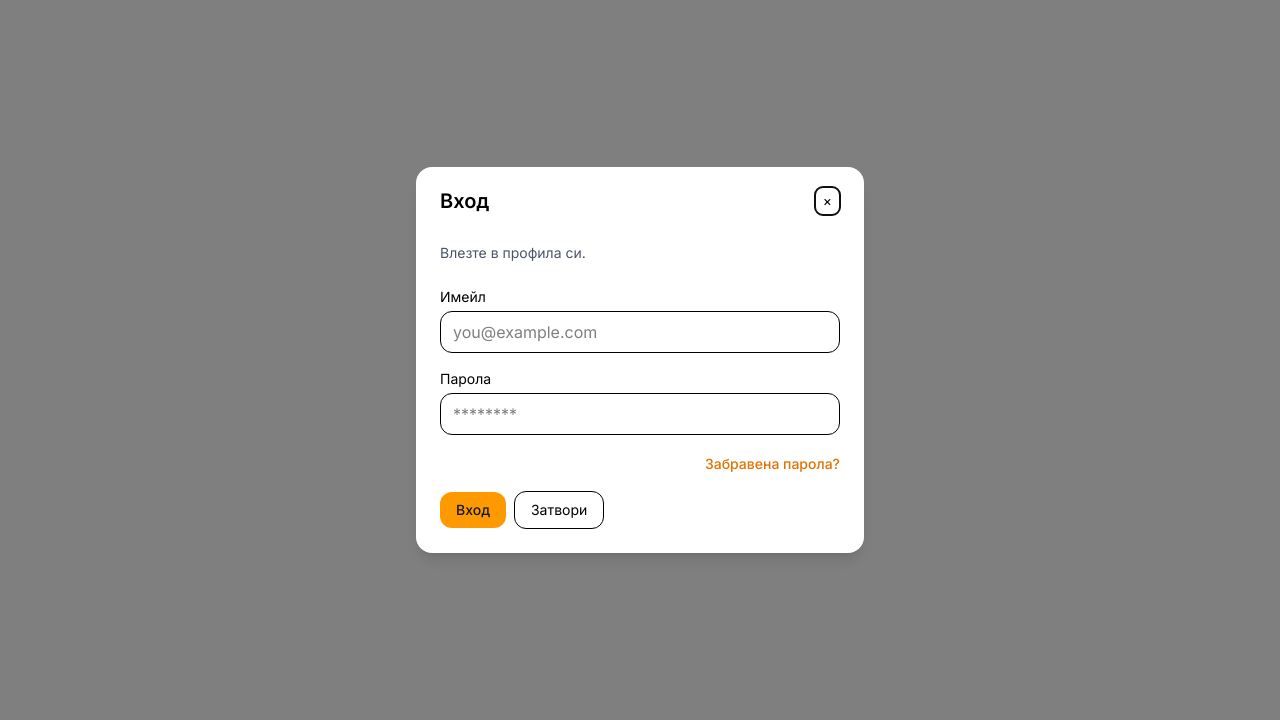
Login Flow › should show error when email is missing
In the password field labelled "Парола": {"x": 640, "y": 414} [440,393,840,435], type "password123"
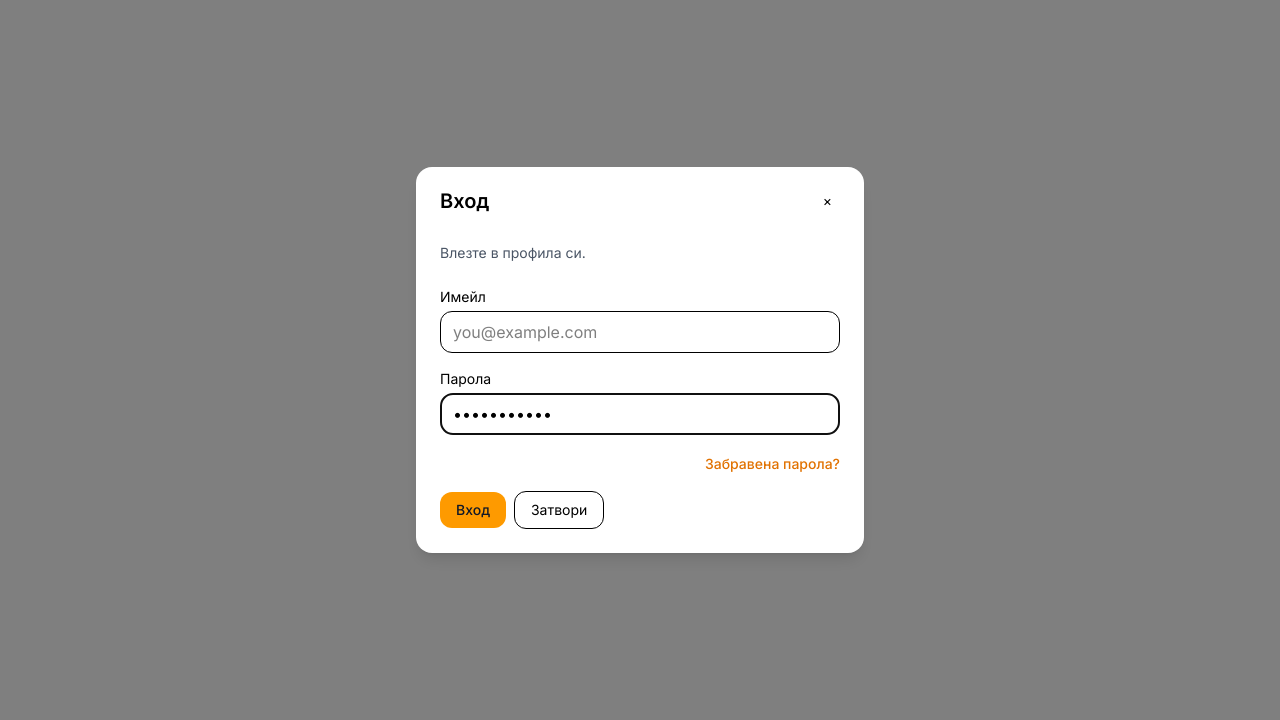
Click the button "Вход": {"x": 473, "y": 510} [440,492,506,528]
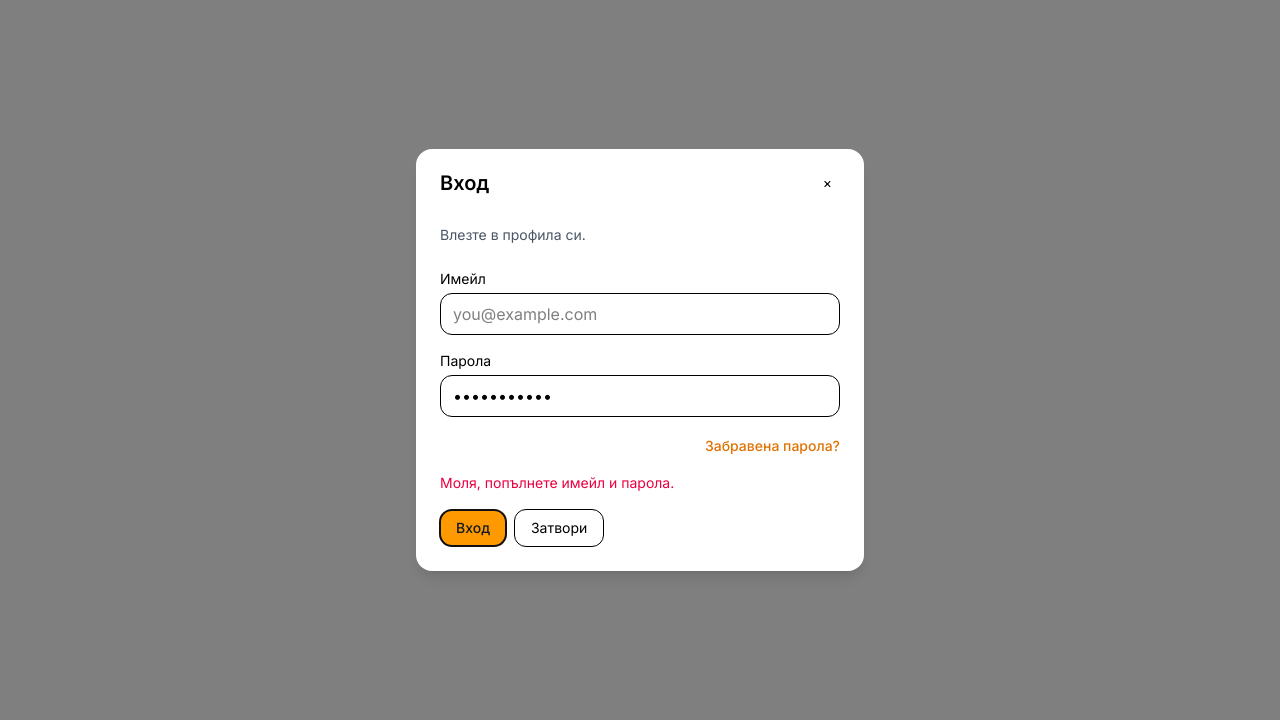
Check: the text "Моля, попълнете имейл и парола." is shown, box [440,474,674,491]
